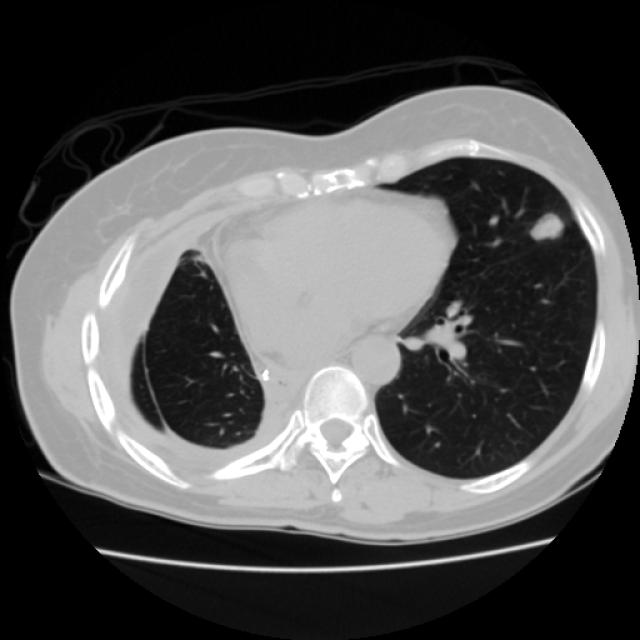nodule: (519, 197, 576, 255)
